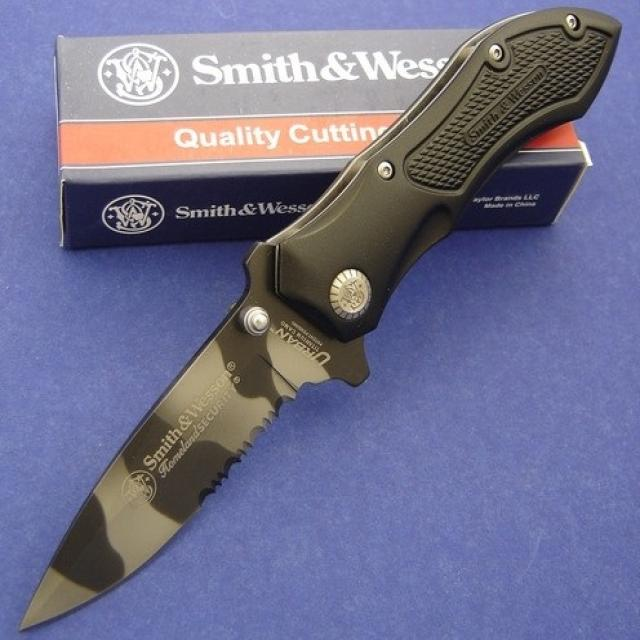knife: (8, 1, 627, 640)
